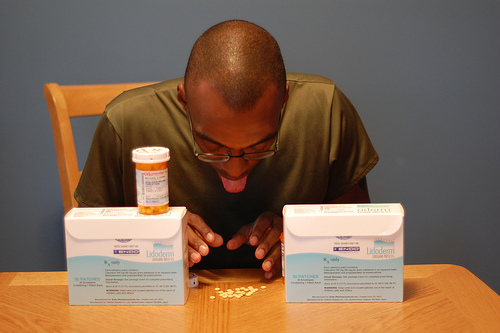pill bottle: (130, 144, 173, 216)
